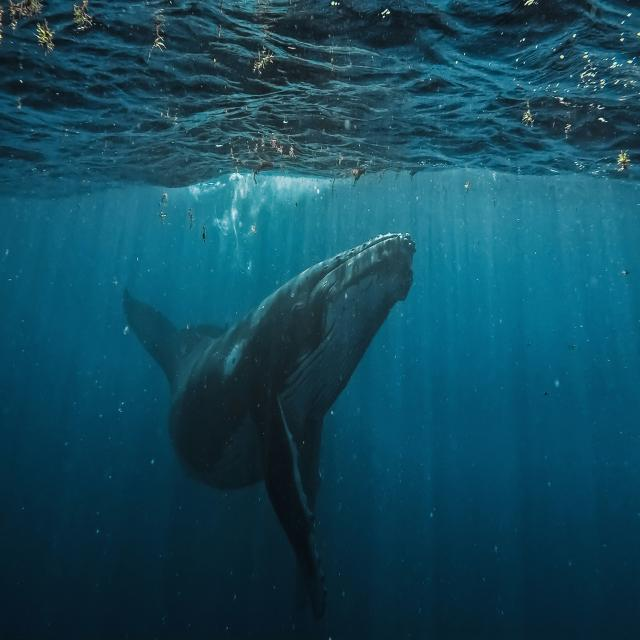jellyfish: (123, 233, 415, 619)
